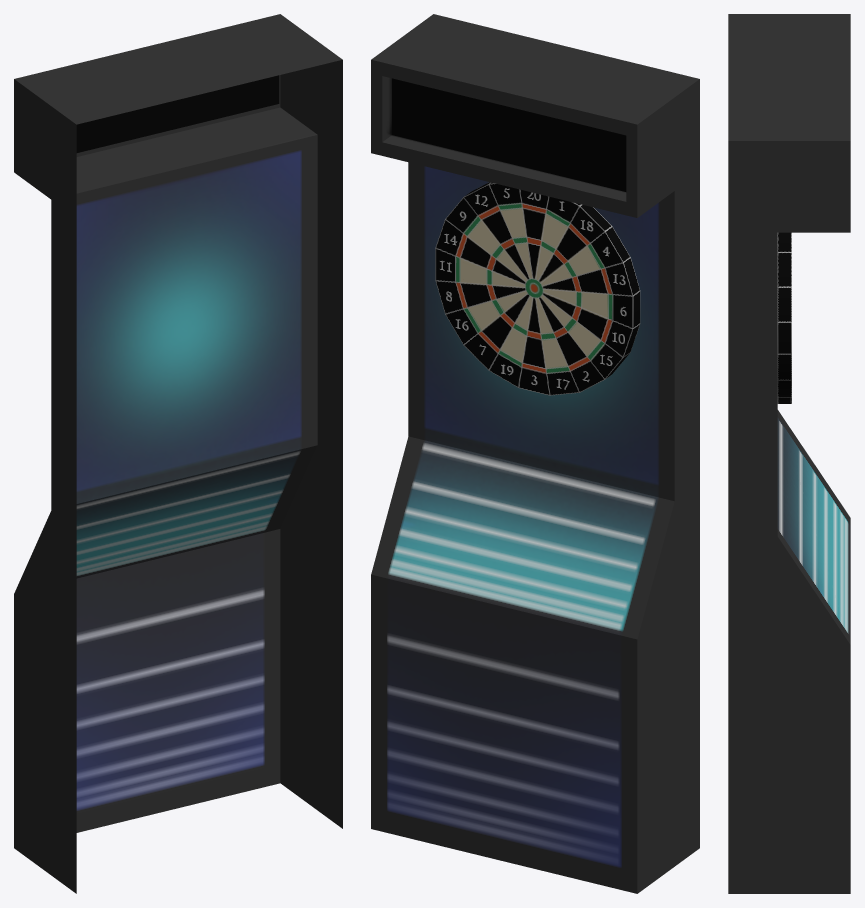
File: dartboard.fbx
3 views of the same model, side by side, from view 1: azimuth 30°, elevation 25°; view 2: azimuth 150°, elevation 25°; view 3: azimuth 270°, elevation 25° (orthographic). The views are drawn at different scales.
Visible parts, largest first — view 1: dartboard; view 2: dartboard; view 3: dartboard.
Part boxes in pixels (x1,y1,x2,y2): dartboard: [14, 14, 342, 893]; dartboard: [371, 14, 699, 893]; dartboard: [728, 14, 850, 893].
Bounding box in the file's own units: 0.0453 × 0.1251 × 0.0184.
